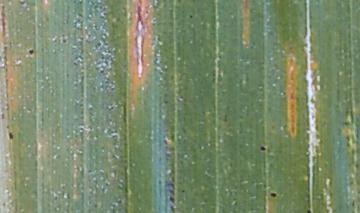tarspot: (166, 180, 175, 205), (61, 32, 68, 45), (27, 47, 36, 56), (269, 191, 277, 199), (258, 145, 267, 152), (8, 131, 15, 140), (180, 188, 186, 194), (305, 209, 312, 213), (188, 14, 193, 19), (176, 1, 182, 4)
